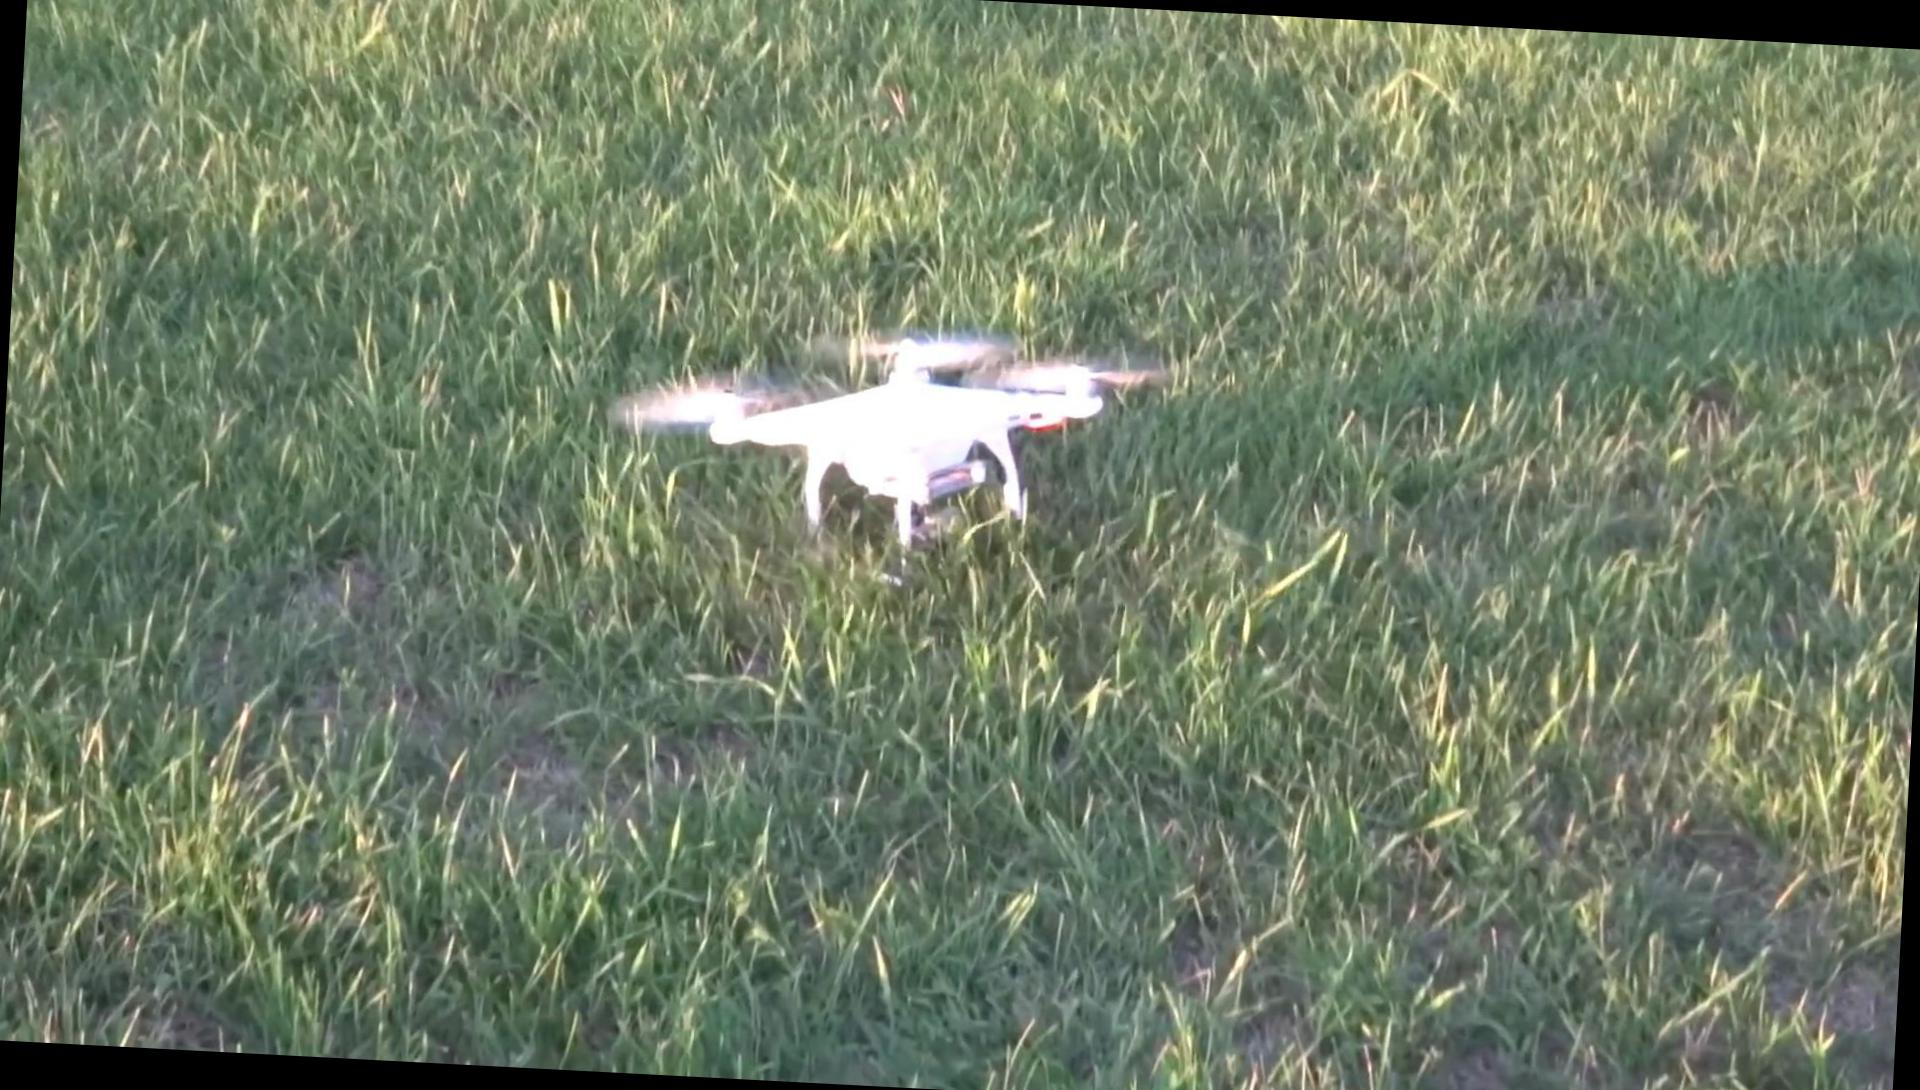drone: (615, 308, 1164, 565)
